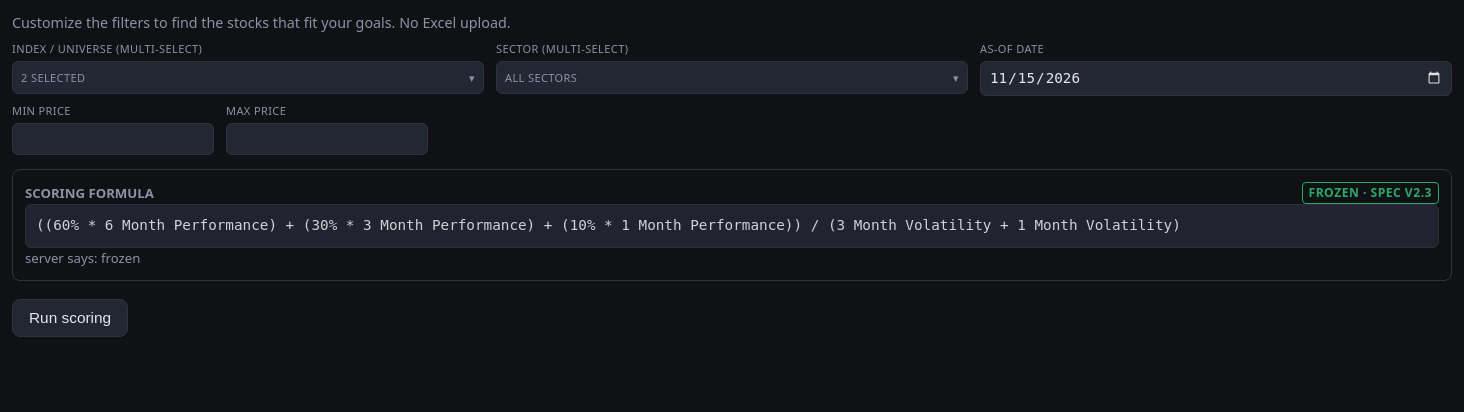
Test: ScannerPanel — running › shows any other failure as text
This screenshot has width=1464, height=412.
Click the button "Run scoring" at point(70, 318), box [12,299,128,337]
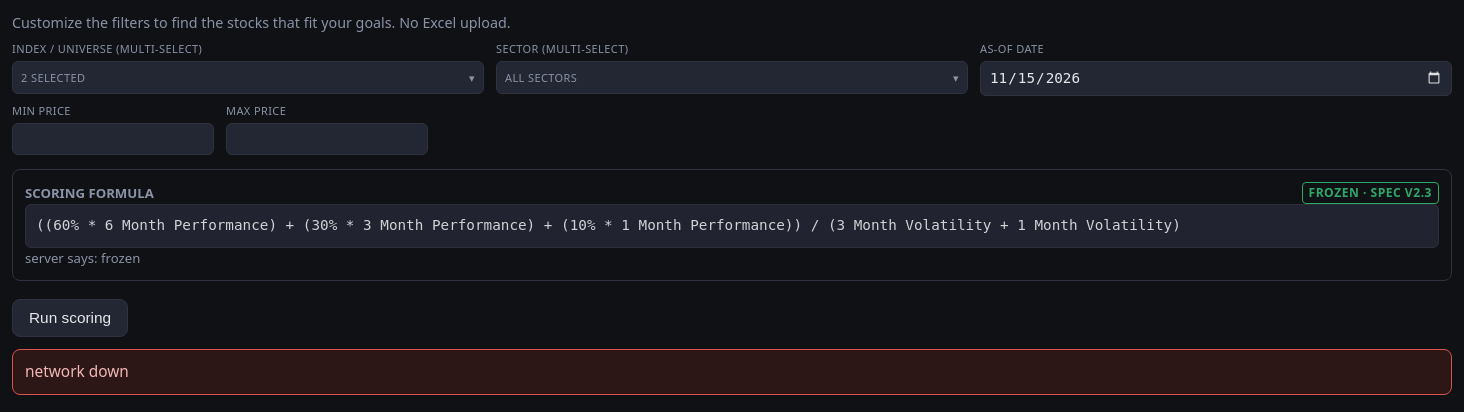
Check: the text "network down" is shown, box [12,349,1452,395]
